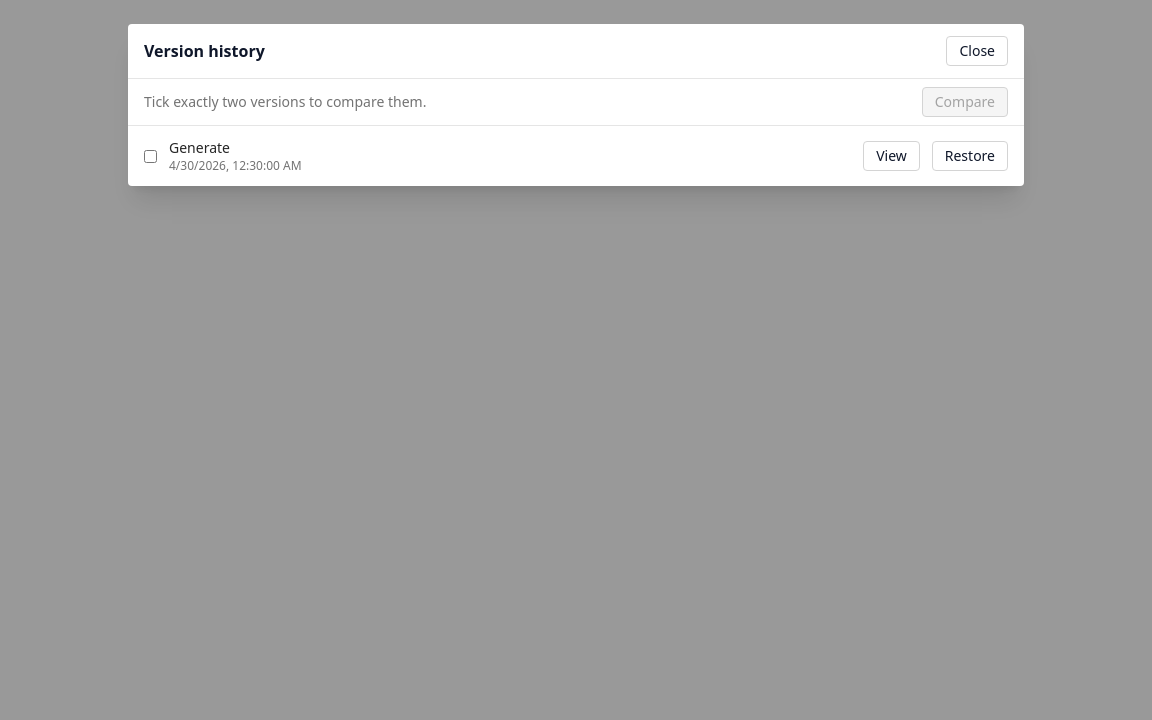
it: VersionHistoryPanel — view + restore › clicking View on a row shows that version's draft text read-only
The image size is (1152, 720).
Click the button "View" at (891, 156), box x1=863 y1=141 x2=920 y2=171
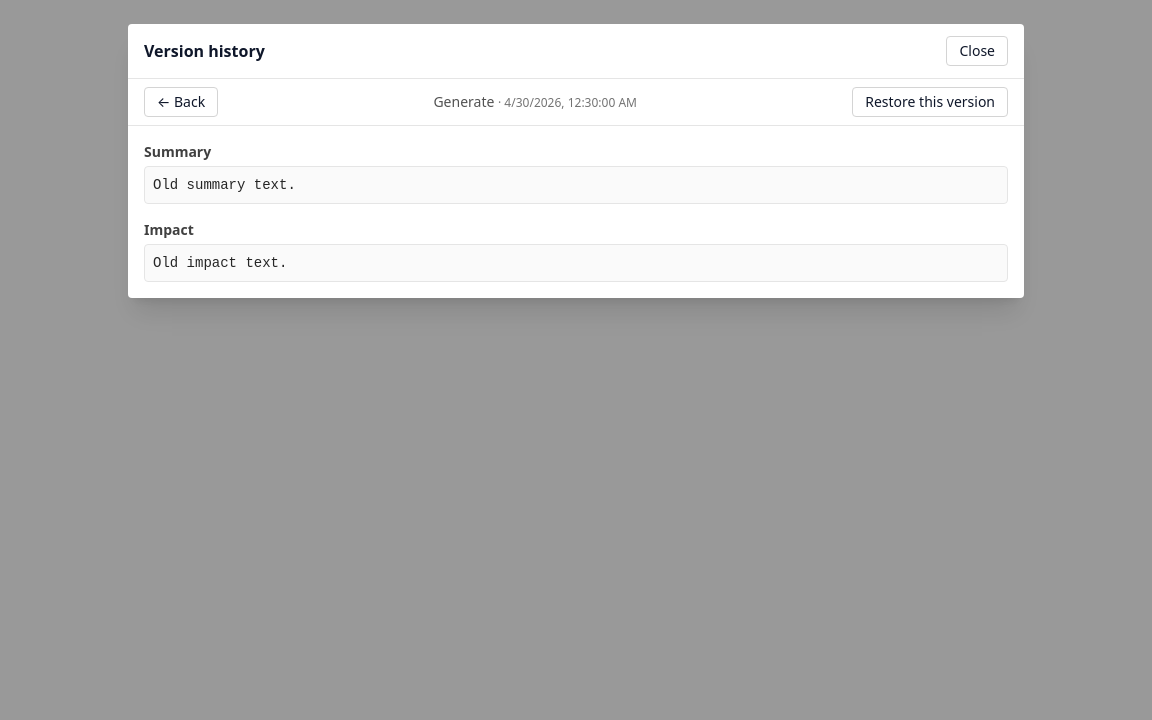
Expected: the text "Old summary text." is shown, x1=144 y1=166 x2=1008 y2=204
Expected: the text "Old impact text." is shown, x1=144 y1=244 x2=1008 y2=282
Expected: the heading "Summary" is shown, x1=144 y1=142 x2=211 y2=161
